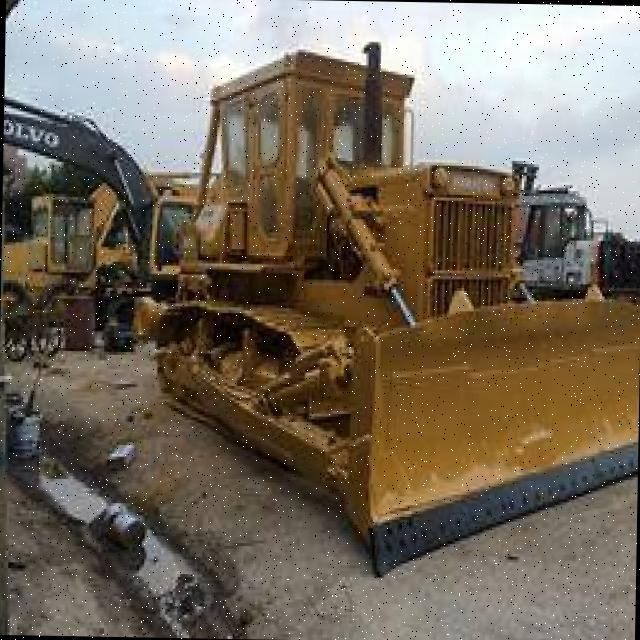Bulldozer: (118, 25, 640, 586)
